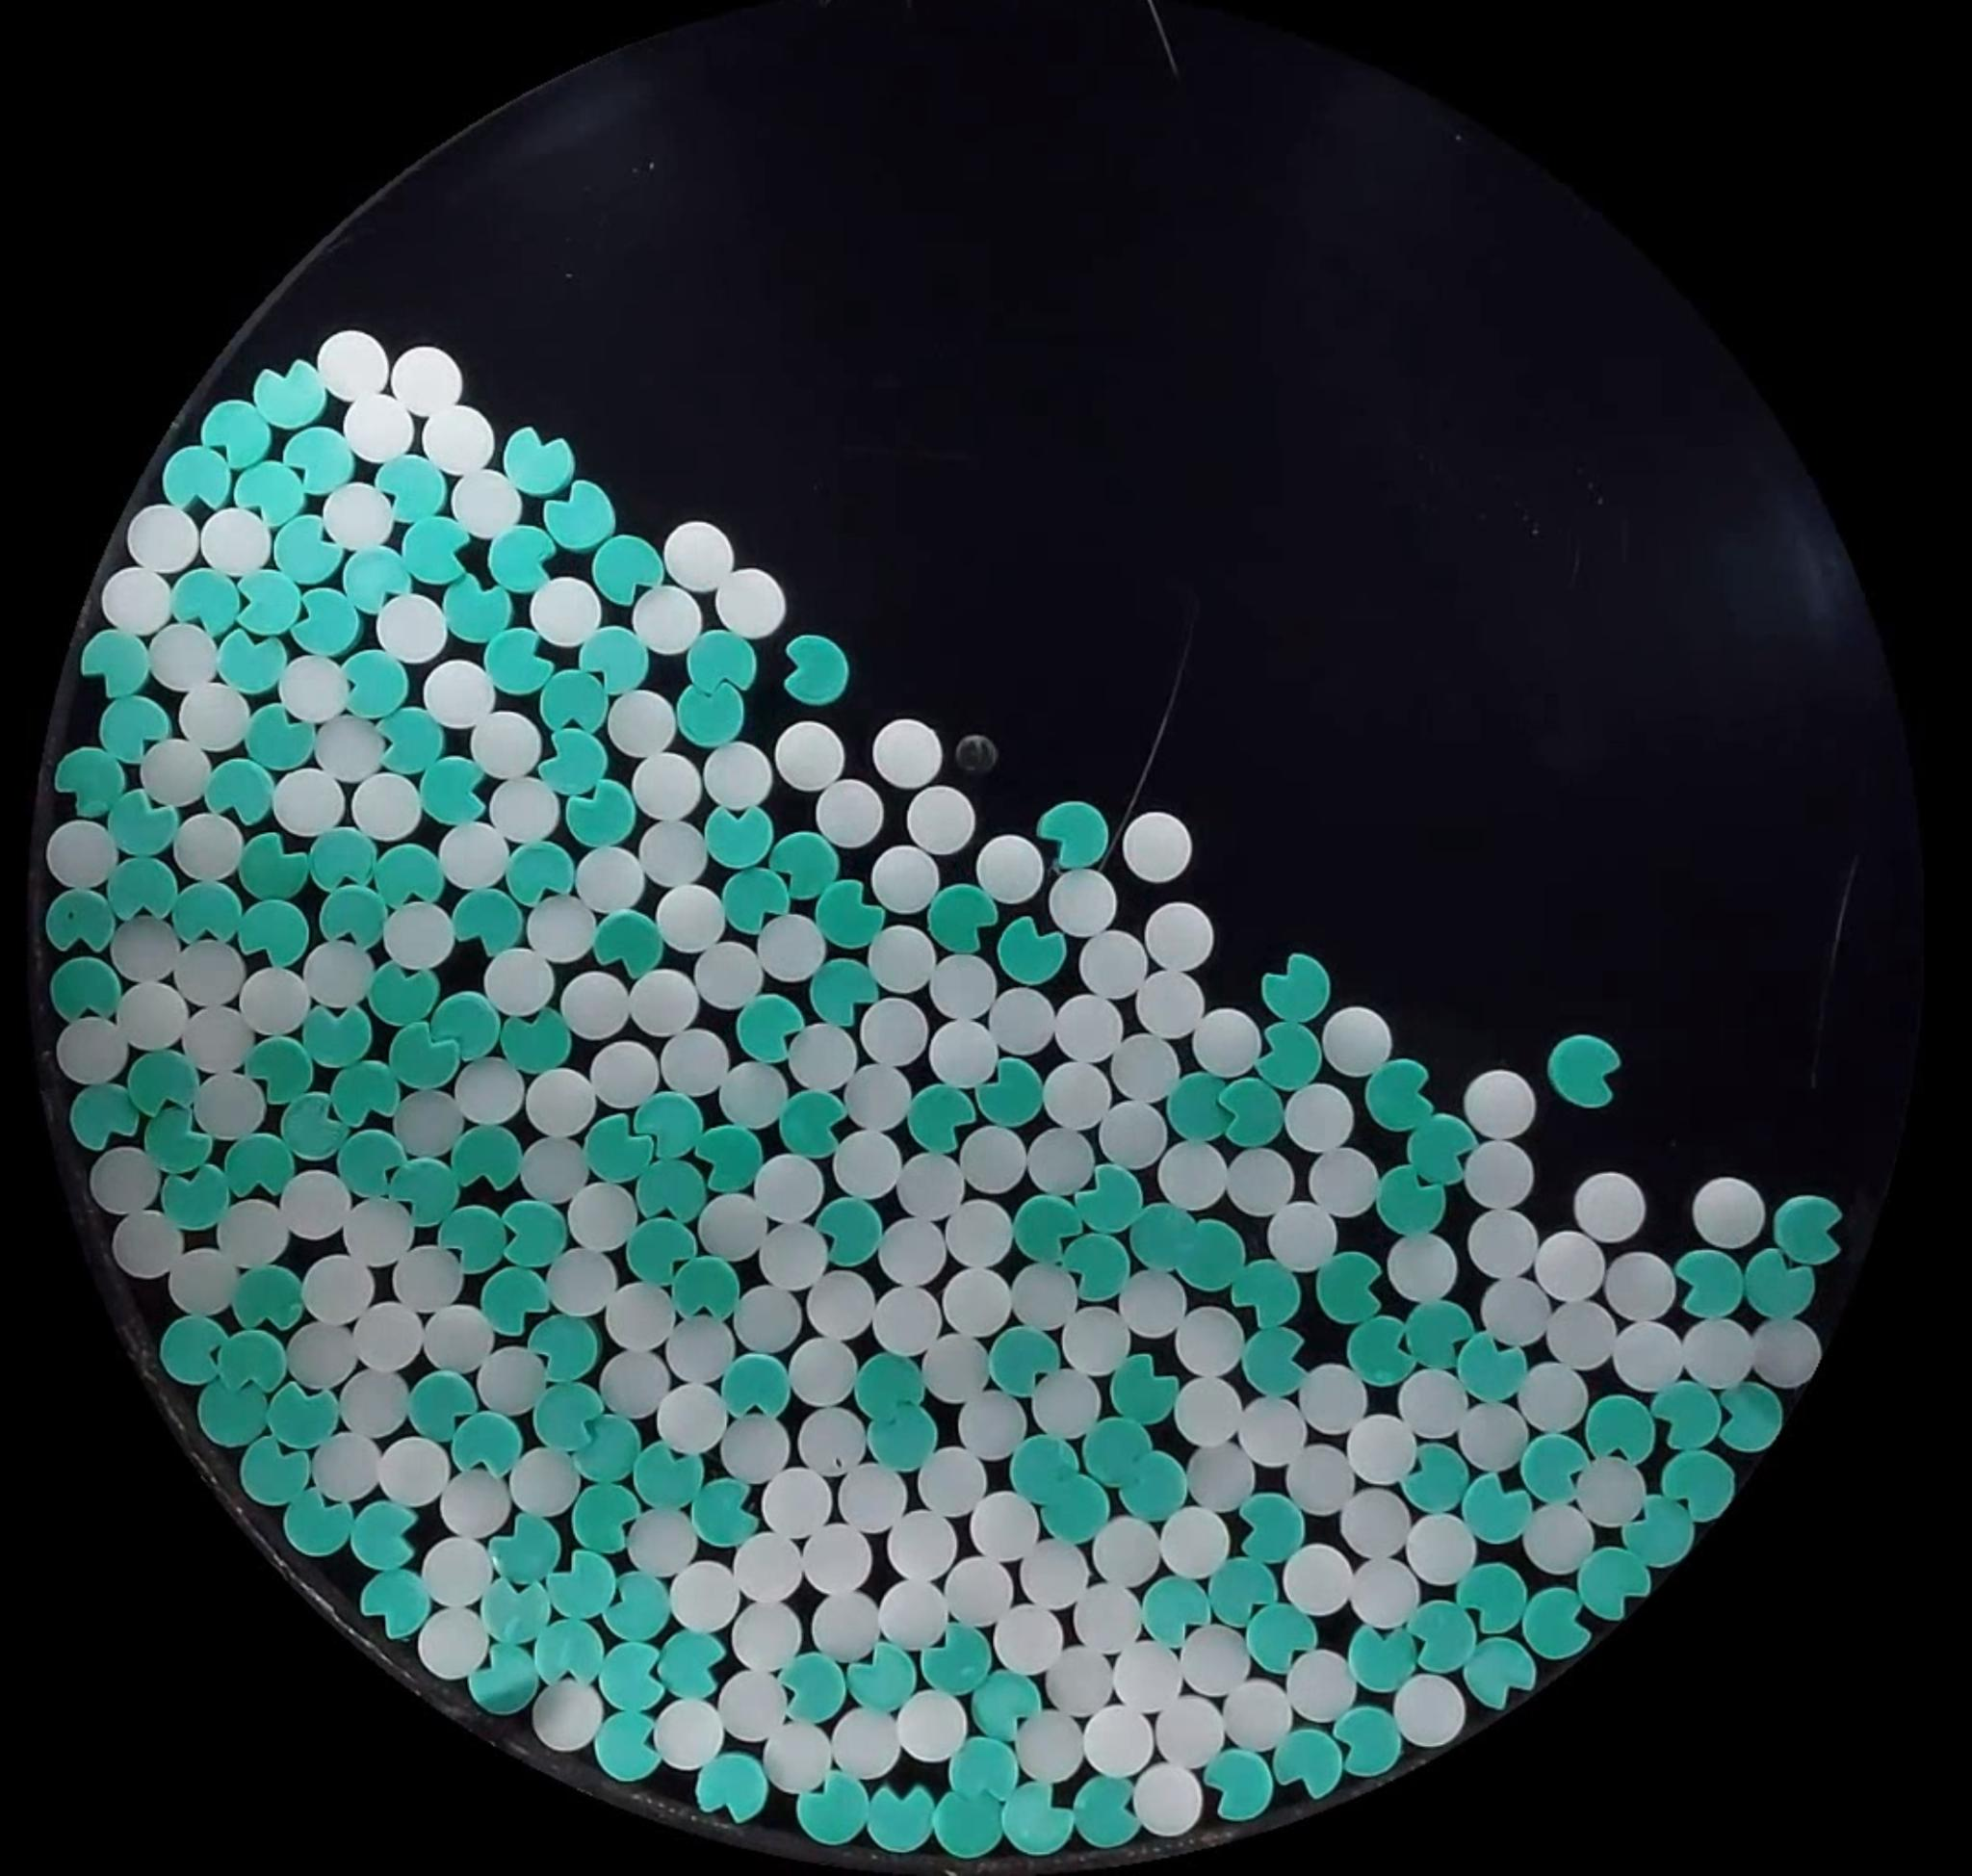no-convexa1: (190, 1370, 276, 1453), (229, 830, 317, 911), (521, 1304, 602, 1388), (1396, 1441, 1477, 1525), (239, 694, 322, 775), (1000, 1191, 1081, 1274), (65, 1076, 146, 1156), (986, 1325, 1067, 1404), (349, 1496, 426, 1578), (495, 1194, 579, 1270), (586, 1631, 664, 1712), (322, 1055, 403, 1131), (653, 1619, 727, 1702), (95, 787, 180, 860), (294, 1001, 380, 1071), (475, 1571, 553, 1649), (636, 1425, 710, 1506), (426, 992, 504, 1067), (329, 1126, 405, 1203), (373, 696, 445, 777), (532, 1379, 607, 1455), (1129, 1205, 1206, 1279), (1248, 1022, 1326, 1096), (1623, 1492, 1697, 1569), (967, 1057, 1046, 1129), (1549, 1032, 1622, 1112), (151, 1164, 232, 1235), (467, 1643, 542, 1717), (504, 426, 579, 500), (542, 477, 616, 553), (268, 511, 343, 585), (546, 1543, 616, 1622), (1167, 1067, 1238, 1147), (694, 1751, 768, 1825), (407, 1372, 482, 1444), (1137, 1573, 1210, 1649), (484, 1510, 562, 1580), (611, 1566, 681, 1643), (579, 1115, 657, 1185), (1375, 1159, 1444, 1238), (1342, 1622, 1421, 1691), (1405, 1599, 1477, 1673), (204, 756, 276, 830), (570, 1480, 643, 1554), (1000, 1784, 1074, 1857), (231, 1263, 305, 1335), (921, 1622, 995, 1695), (1521, 1587, 1593, 1661), (1273, 1728, 1345, 1802), (245, 1034, 317, 1108), (1576, 1545, 1648, 1619), (592, 534, 666, 606), (1652, 1379, 1724, 1453), (79, 629, 153, 701), (53, 745, 127, 817), (1104, 1356, 1178, 1429), (1213, 1080, 1289, 1150), (275, 1090, 352, 1159), (593, 1709, 666, 1781), (625, 1215, 697, 1288), (236, 897, 308, 969), (1463, 1636, 1535, 1709), (1660, 1450, 1733, 1522), (541, 728, 613, 800), (49, 955, 121, 1027), (438, 1205, 511, 1277), (449, 1409, 523, 1480), (109, 851, 180, 925), (815, 1196, 886, 1270), (239, 1434, 310, 1508), (282, 426, 356, 497), (215, 1325, 285, 1399), (254, 361, 327, 432), (1204, 1747, 1275, 1821), (570, 1416, 644, 1487), (1319, 1244, 1384, 1323), (1247, 1321, 1310, 1402), (1245, 1603, 1315, 1675), (865, 1781, 935, 1853), (449, 1124, 521, 1194), (1458, 1562, 1528, 1635), (479, 1263, 549, 1335), (1403, 1298, 1474, 1370), (933, 1786, 1004, 1858), (815, 879, 886, 951), (1365, 1059, 1437, 1129), (266, 1379, 336, 1451), (127, 1046, 197, 1119), (99, 692, 171, 763), (234, 569, 305, 641), (1461, 1473, 1532, 1545), (359, 1568, 431, 1638), (417, 756, 488, 828), (282, 1490, 354, 1561), (1674, 1247, 1745, 1319), (1333, 1705, 1403, 1777), (1405, 1113, 1477, 1184), (1771, 1194, 1843, 1265), (1743, 1245, 1814, 1318), (1458, 1333, 1528, 1406), (541, 664, 613, 735), (500, 1006, 572, 1076), (199, 400, 271, 470), (44, 886, 116, 956), (1717, 1381, 1787, 1453), (592, 909, 666, 978), (1581, 1397, 1655, 1466), (1056, 1235, 1132, 1302), (778, 1652, 849, 1723), (387, 1156, 458, 1226), (373, 842, 444, 912), (798, 1776, 868, 1846), (222, 1133, 292, 1203), (997, 916, 1067, 986), (1039, 800, 1109, 870), (905, 1083, 974, 1156), (636, 1154, 704, 1226), (368, 960, 440, 1029), (234, 460, 306, 528), (565, 782, 637, 851), (451, 888, 523, 956), (1519, 1432, 1588, 1504), (866, 1402, 938, 1471), (391, 1023, 463, 1092), (1262, 951, 1331, 1023), (375, 454, 447, 523), (784, 634, 852, 706), (139, 1106, 211, 1175), (484, 625, 551, 699), (1076, 1414, 1150, 1481), (778, 1087, 847, 1157), (736, 993, 805, 1064), (856, 1351, 924, 1422), (692, 1124, 762, 1193), (720, 1351, 789, 1422), (926, 884, 997, 953), (218, 627, 289, 696), (171, 567, 239, 638), (632, 1090, 703, 1159), (1118, 1451, 1187, 1522), (845, 1645, 916, 1714), (578, 625, 648, 694), (442, 576, 512, 645), (292, 588, 361, 659), (1236, 1492, 1306, 1561), (158, 1314, 225, 1386), (703, 803, 775, 870), (1072, 1166, 1139, 1238), (1236, 1258, 1303, 1330), (1187, 1221, 1248, 1298), (722, 867, 791, 935), (1072, 1781, 1141, 1850), (401, 514, 470, 583), (342, 650, 410, 719), (343, 544, 412, 613), (671, 1256, 741, 1323), (690, 1476, 757, 1547), (947, 1735, 1018, 1802), (173, 879, 243, 946), (769, 831, 840, 898), (1208, 1753, 1275, 1823), (1039, 1478, 1109, 1545), (532, 1617, 602, 1684), (810, 958, 877, 1029), (1011, 1436, 1081, 1503), (970, 1673, 1039, 1740), (488, 525, 556, 592), (505, 840, 574, 907), (676, 682, 745, 749), (687, 629, 755, 696), (319, 881, 387, 948), (1345, 1312, 1414, 1379), (308, 826, 377, 891), (166, 444, 231, 513), (1208, 1561, 1275, 1622)
